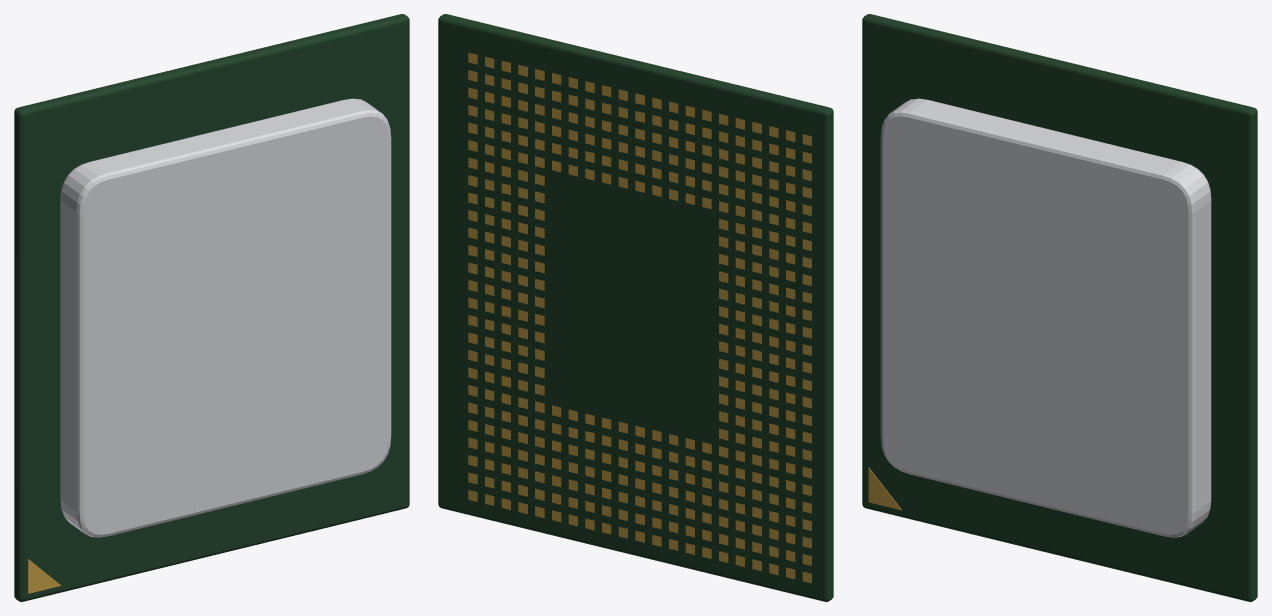
3 views of the same model, side by side, from view 1: azimuth 30°, elevation 25°; view 2: azimuth 150°, elevation 25°; view 3: azimuth 330°, elevation 25° (orthographic).
Visible parts, largest first — view 1: CPU_IHS, CPU_Substrate, CPU_Pin1_Mark; view 2: CPU_Substrate, CPU_Contacts; view 3: CPU_IHS, CPU_Substrate, CPU_Pin1_Mark.
Part boxes in pixels (bbox=[...]): CPU_IHS: bbox=[60, 98, 391, 537]; CPU_Substrate: bbox=[14, 14, 409, 601]; CPU_Pin1_Mark: bbox=[28, 559, 61, 593]; CPU_Substrate: bbox=[438, 14, 833, 601]; CPU_Contacts: bbox=[468, 52, 811, 583]; CPU_IHS: bbox=[880, 98, 1211, 537]; CPU_Substrate: bbox=[862, 14, 1257, 601]; CPU_Pin1_Mark: bbox=[868, 467, 901, 510].
Bounding box in the file's own units: 0.0375 × 0.045 × 0.00461.
